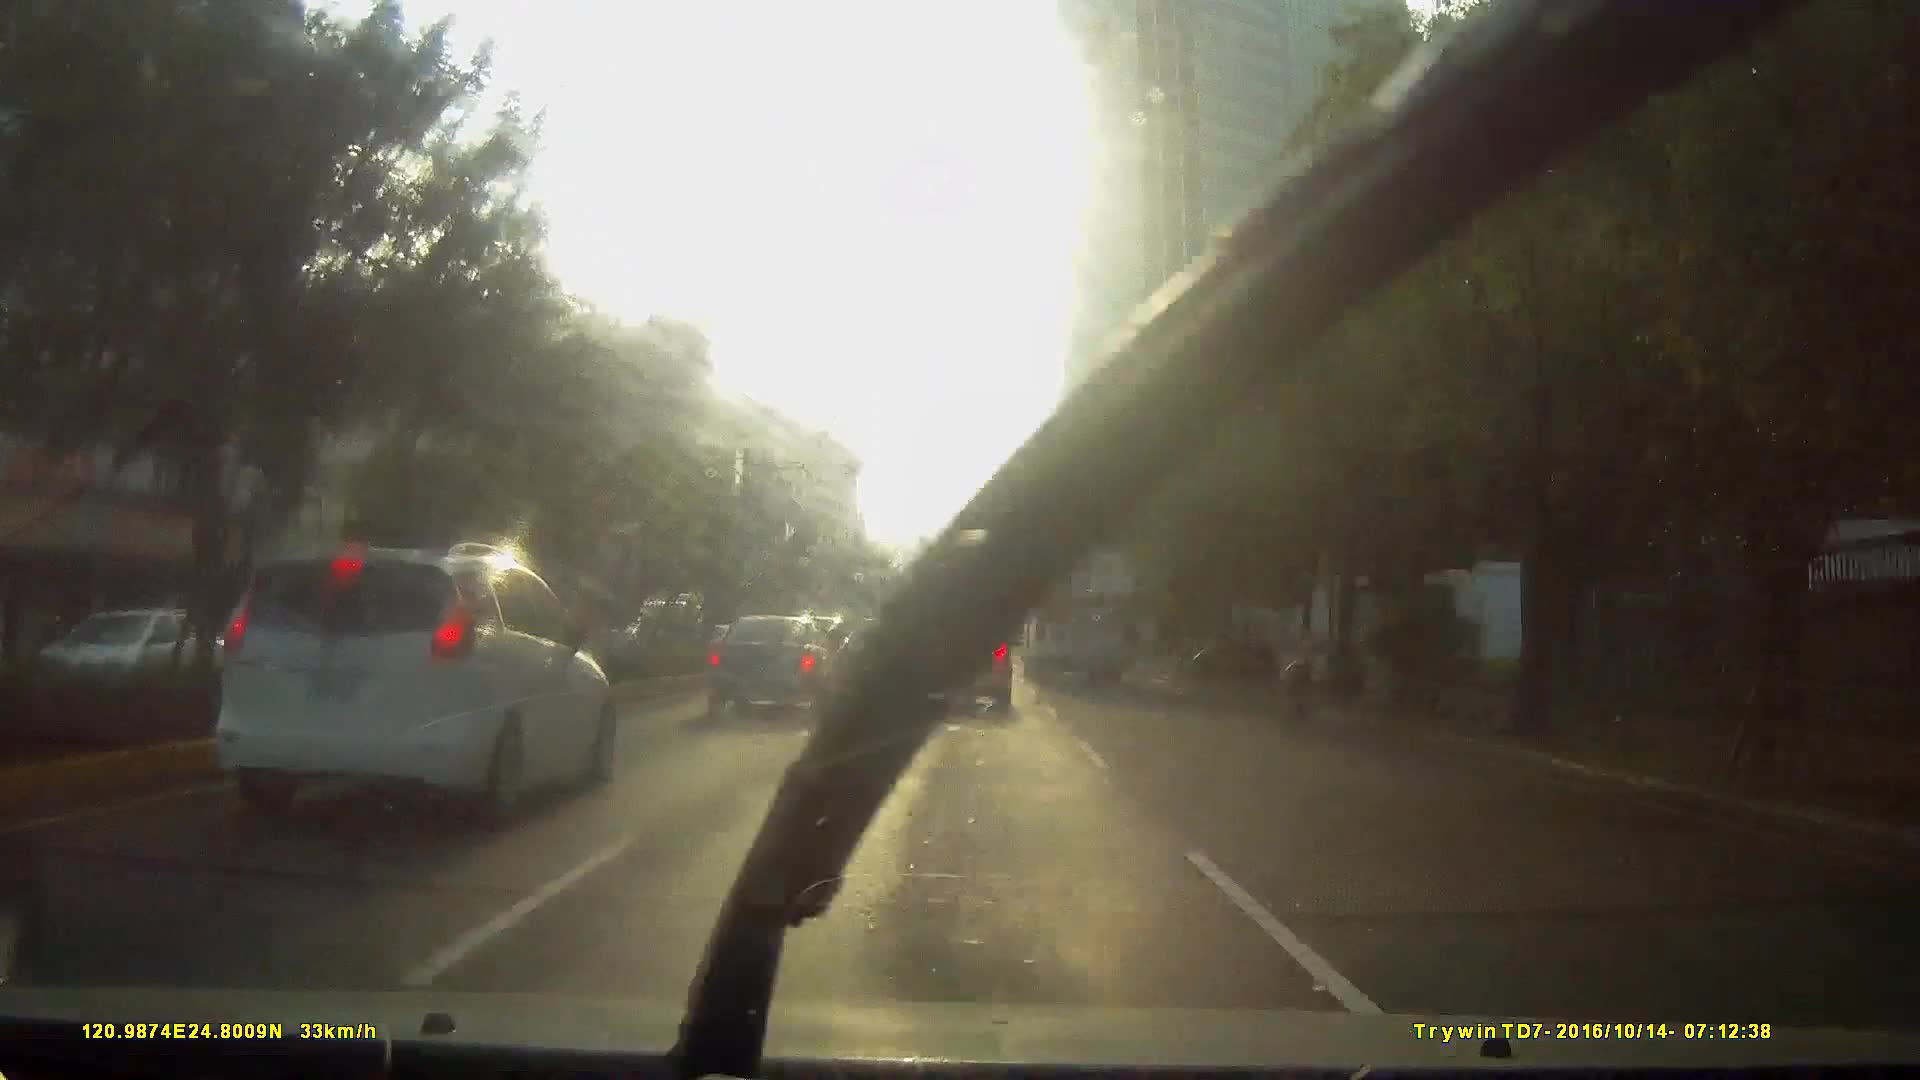vehicle: (251, 556, 684, 868), (187, 541, 626, 837), (1018, 545, 1139, 690), (698, 615, 844, 723), (897, 607, 1014, 717), (622, 591, 700, 663), (849, 615, 909, 676)
